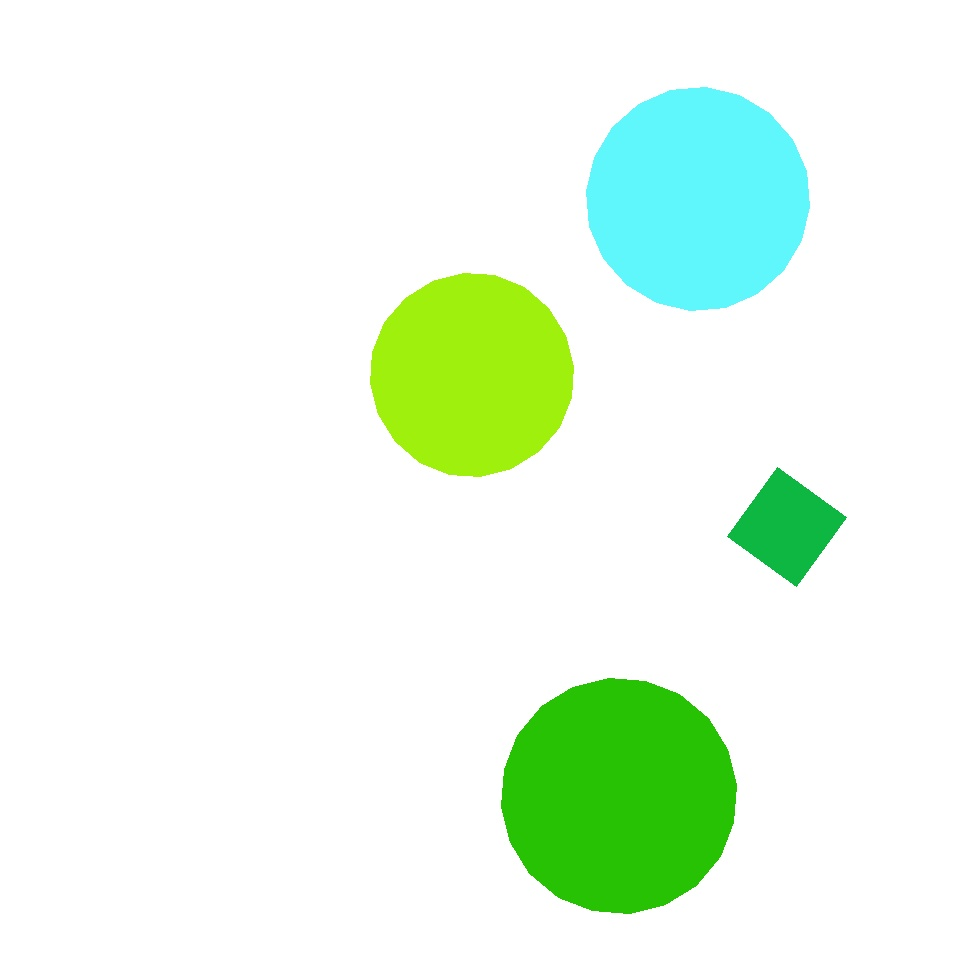circle: (150, 335, 446, 595), (361, 506, 546, 708), (562, 662, 688, 800)
square: (728, 467, 846, 586), (240, 36, 346, 142)
triangle: (501, 678, 736, 914), (586, 88, 810, 311), (370, 274, 574, 476)
